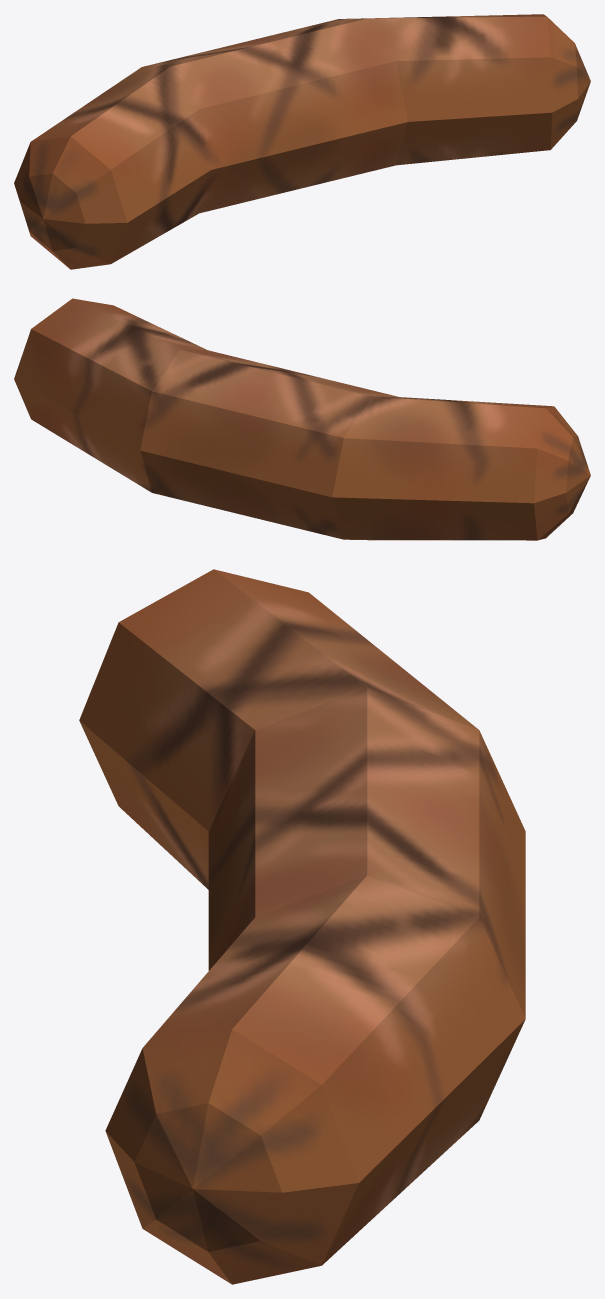
Rendered from SausageCooked.obj.
3 renders of one model, top to bottom at view 1: azimuth 30°, elevation 25°; view 2: azimuth 150°, elevation 25°; view 3: azimuth 270°, elevation 25°, orthographic. The views are drawn at different scales.
Parts seen in each view (by area): view 1: SausageCooked_Cylinder.007; view 2: SausageCooked_Cylinder.007; view 3: SausageCooked_Cylinder.007.
Boxes of the visible parts, box(x1,y1,x2,y2) form: SausageCooked_Cylinder.007: box(14, 14, 590, 269); SausageCooked_Cylinder.007: box(14, 298, 590, 540); SausageCooked_Cylinder.007: box(79, 569, 525, 1284).
Size of the model in its own units: 1.21 by 0.3063 by 0.4314.
